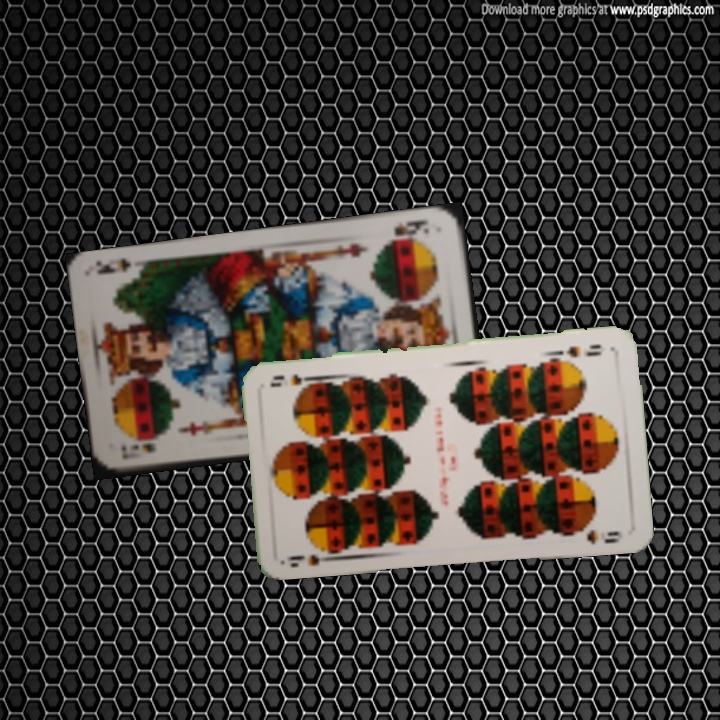S9: (279, 541, 338, 570), (555, 340, 605, 364)
SK: (380, 215, 432, 246), (117, 438, 159, 462)
